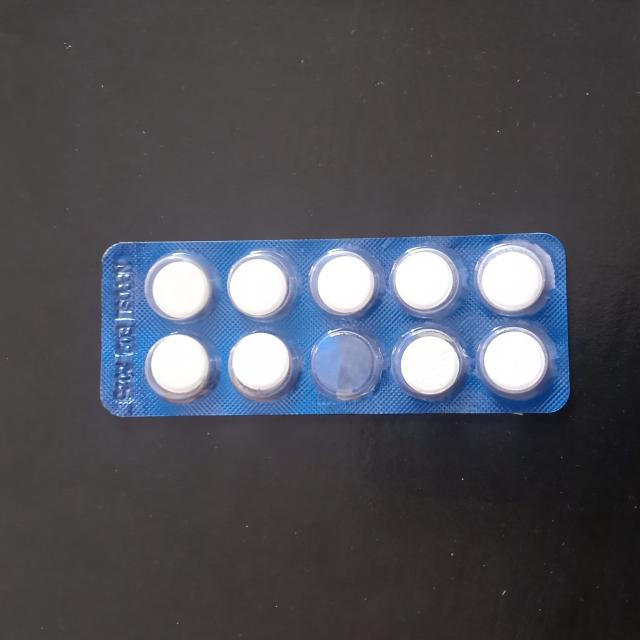defect: (307, 326, 389, 408)
